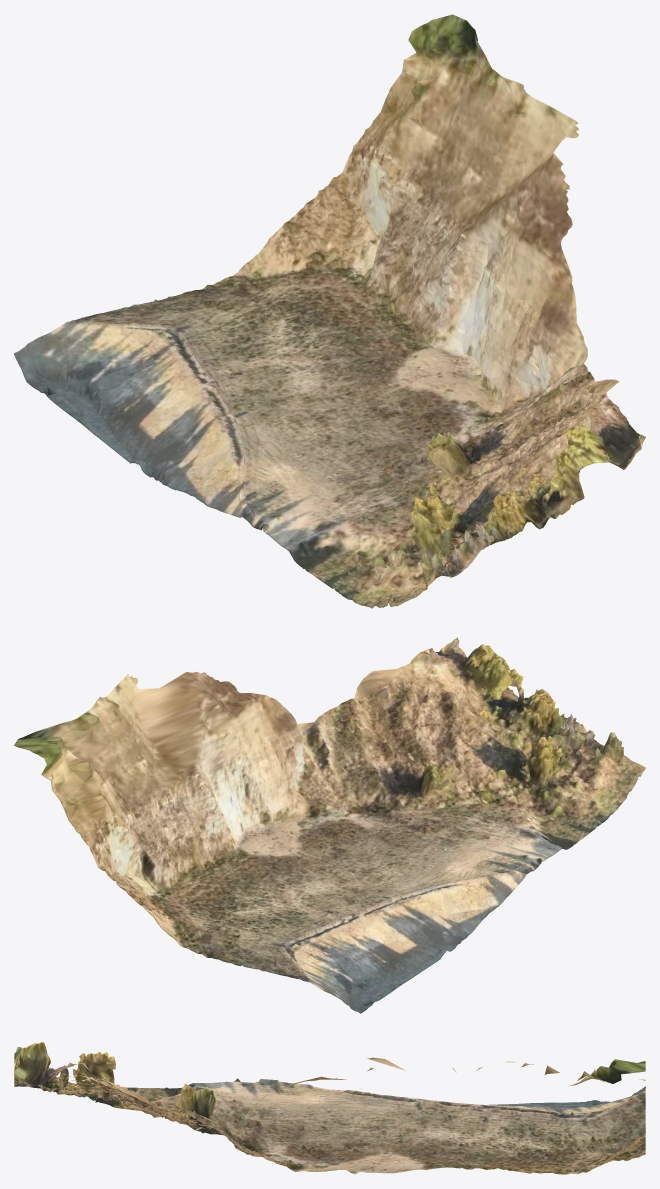
The model's file is BlockBBBY_L17_5.glb.
The picture shows the model from 3 angles, top to bottom: view 1: azimuth 30°, elevation 25°; view 2: azimuth 150°, elevation 25°; view 3: azimuth 270°, elevation 25°; orthographic projection. The views are drawn at different scales.
Visible parts, largest first — view 1: rtc; view 2: rtc; view 3: rtc.
Boxes of the visible parts, bbox=[...] form: rtc: bbox=[14, 14, 645, 608]; rtc: bbox=[14, 637, 645, 1013]; rtc: bbox=[14, 1042, 645, 1174].
Bounding box in the file's own units: 107 × 59.87 × 160.
4 materials, 4 textured.
